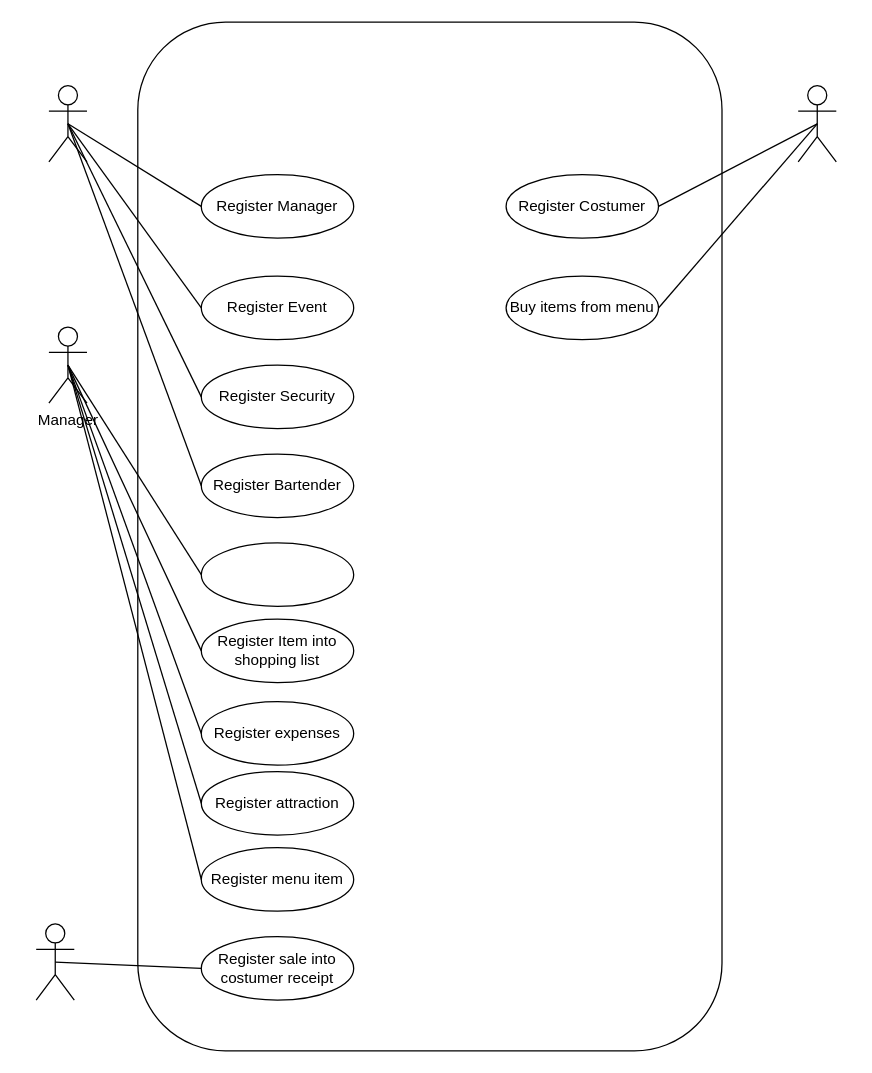
This 872x1073 diagram has some shape labels left out. The shapes that lost their labels are listed below. From the top down, each one's centre as x and y in pixels, then its label:
At point 67,123: "Admin".
At point 816,123: "Costumer".
At point 277,574: "Get event analytics".
At point 54,961: "Bartender".
